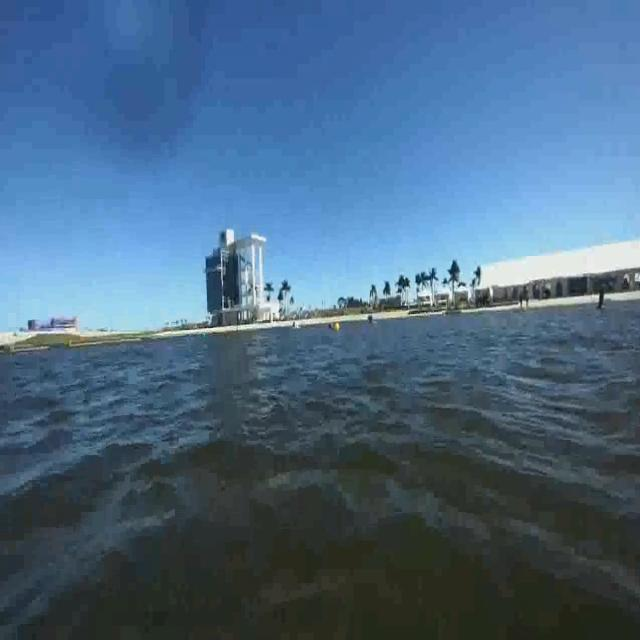yellow-buoy: (336, 321, 342, 332)
